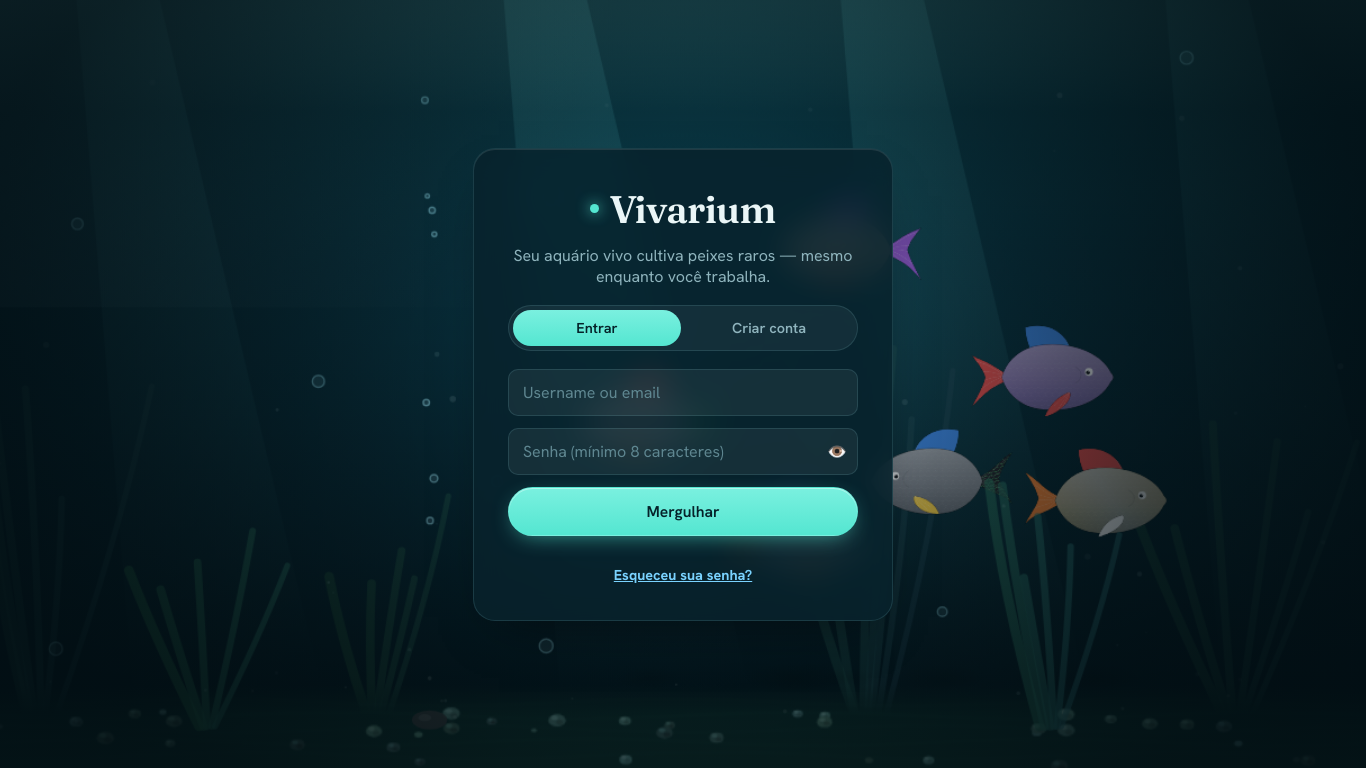
Test case: Mochila › mochila vazia mostra a dica, sem cards
The width and height of the screenshot is (1366, 768).
Step 1. Type "jogador1" into the field with placeholder "Username ou email" → x=683, y=393, box [508,369,858,416]
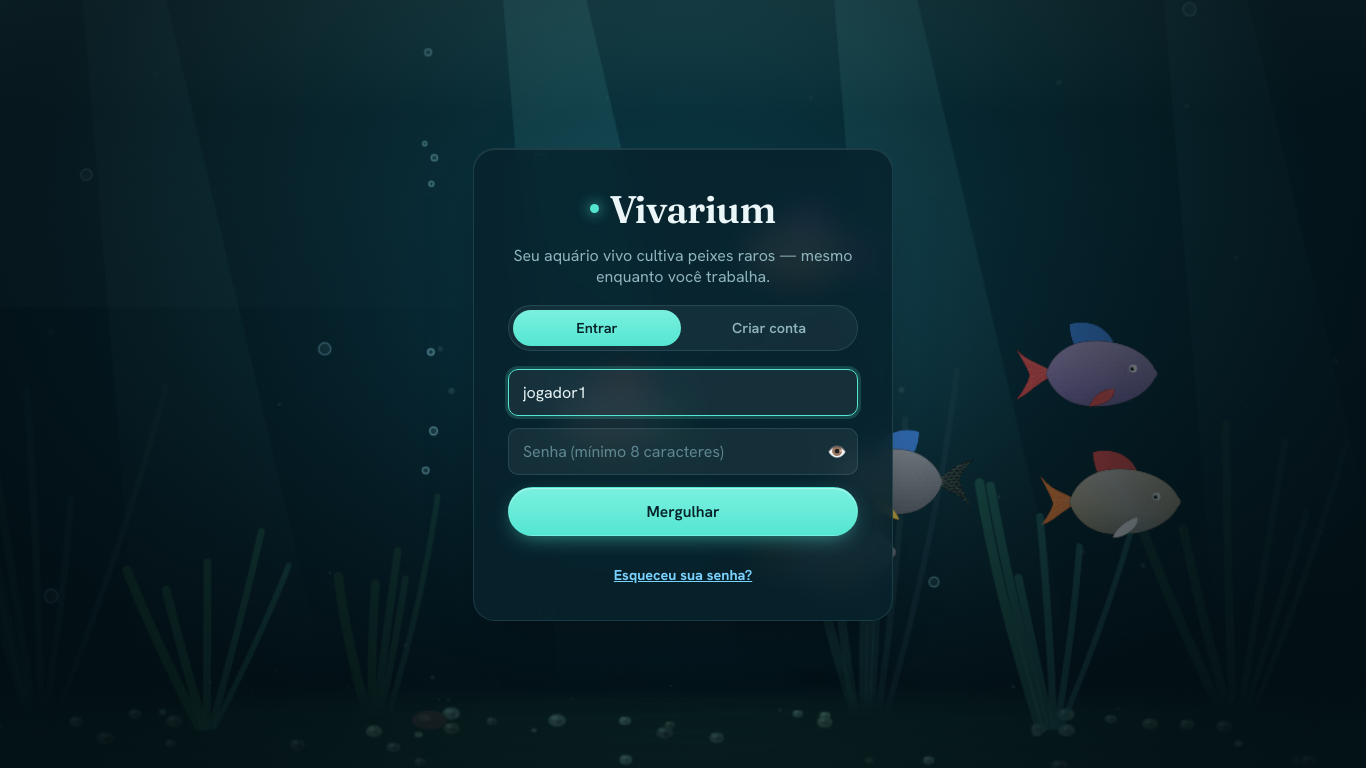
Step 2. Type "senha-forte-123" into the password field with placeholder "Senha (mínimo 8 caracteres)" → x=683, y=452, box [508,428,858,475]
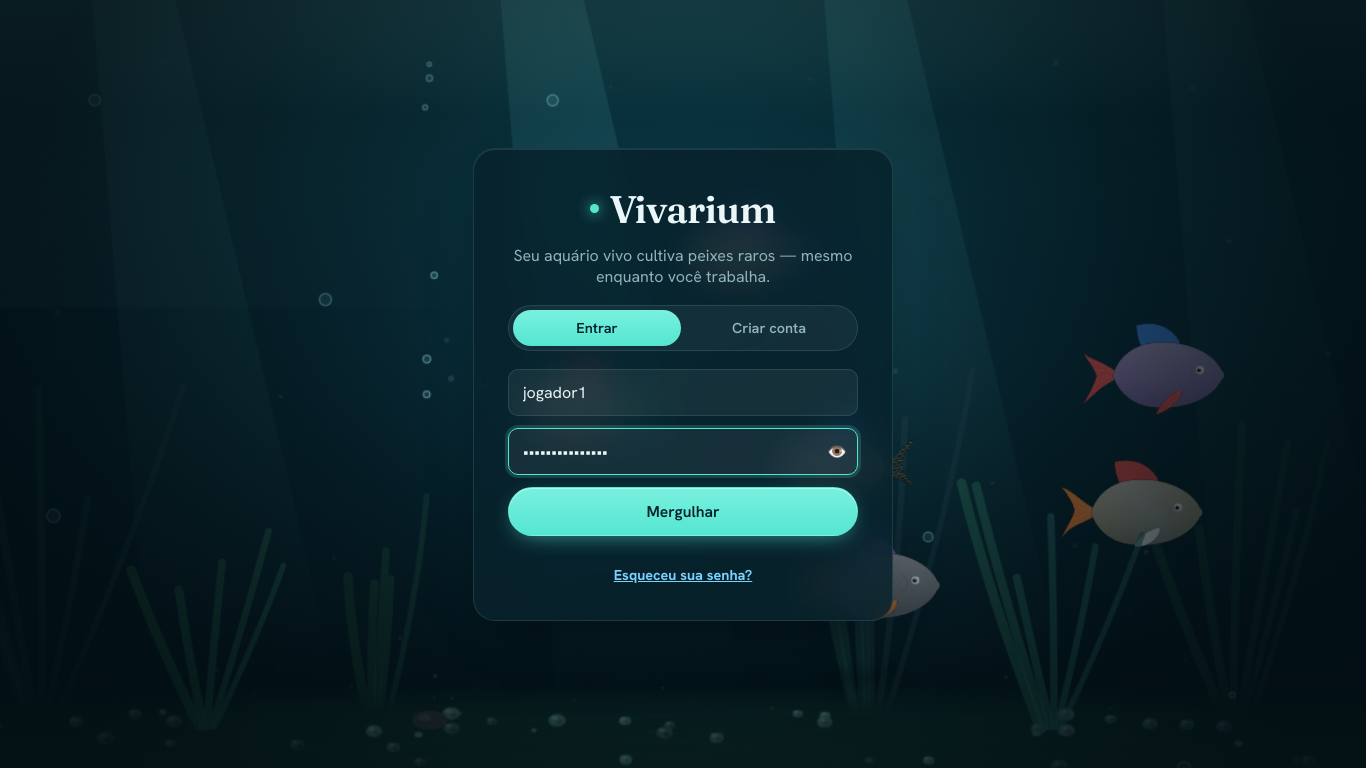
Step 3. Click the button "Mergulhar" → x=683, y=512, box [508,487,858,536]
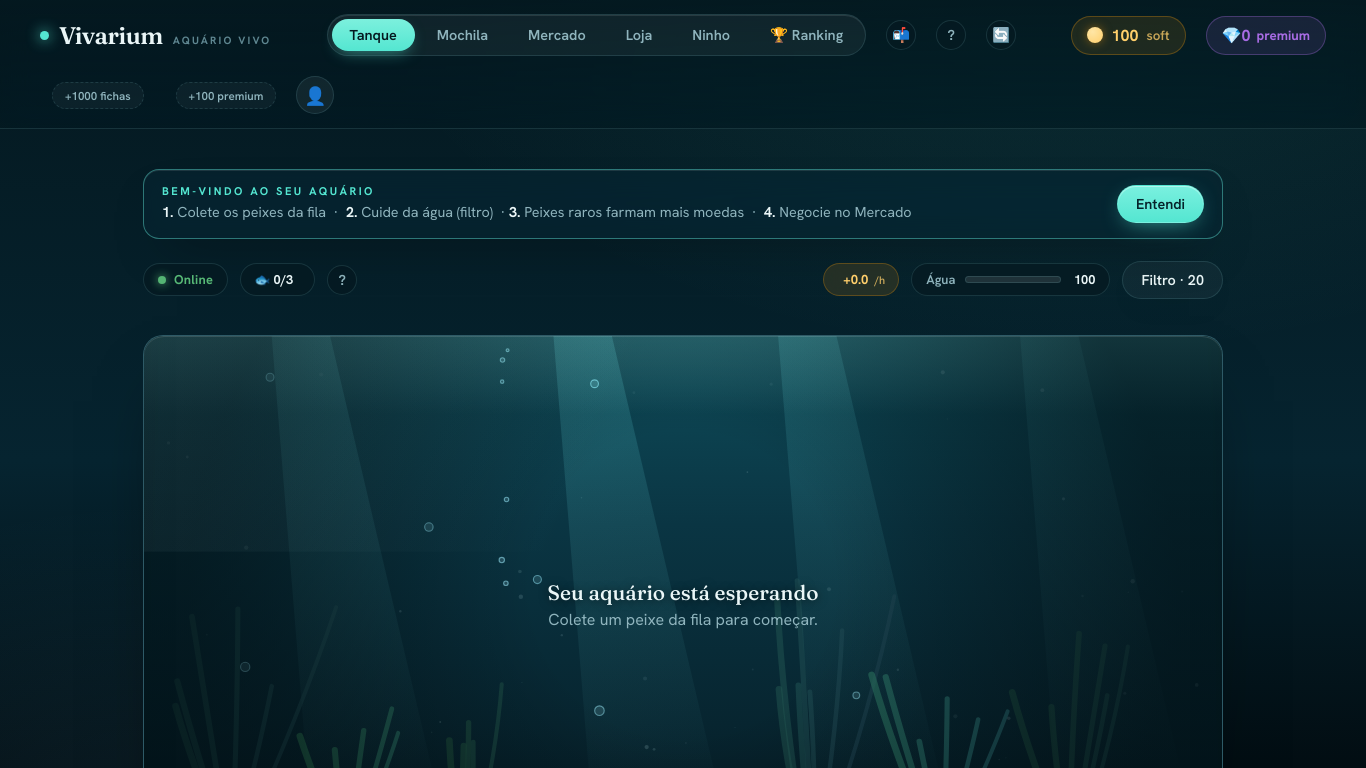
Step 4. Click the button "Mochila" → x=463, y=35, box [419,19,506,51]
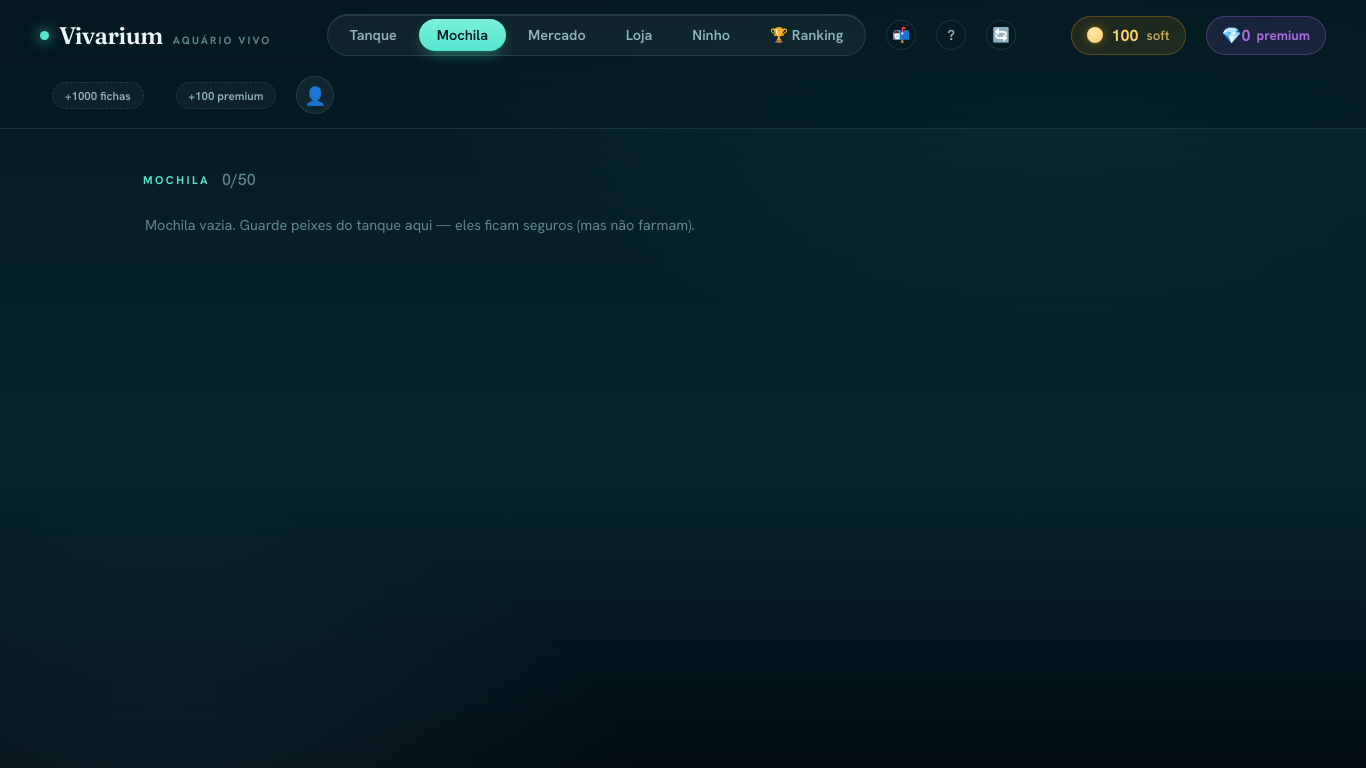
Expected: the text "Mochila vazia" is shown, [145,216,695,234]
